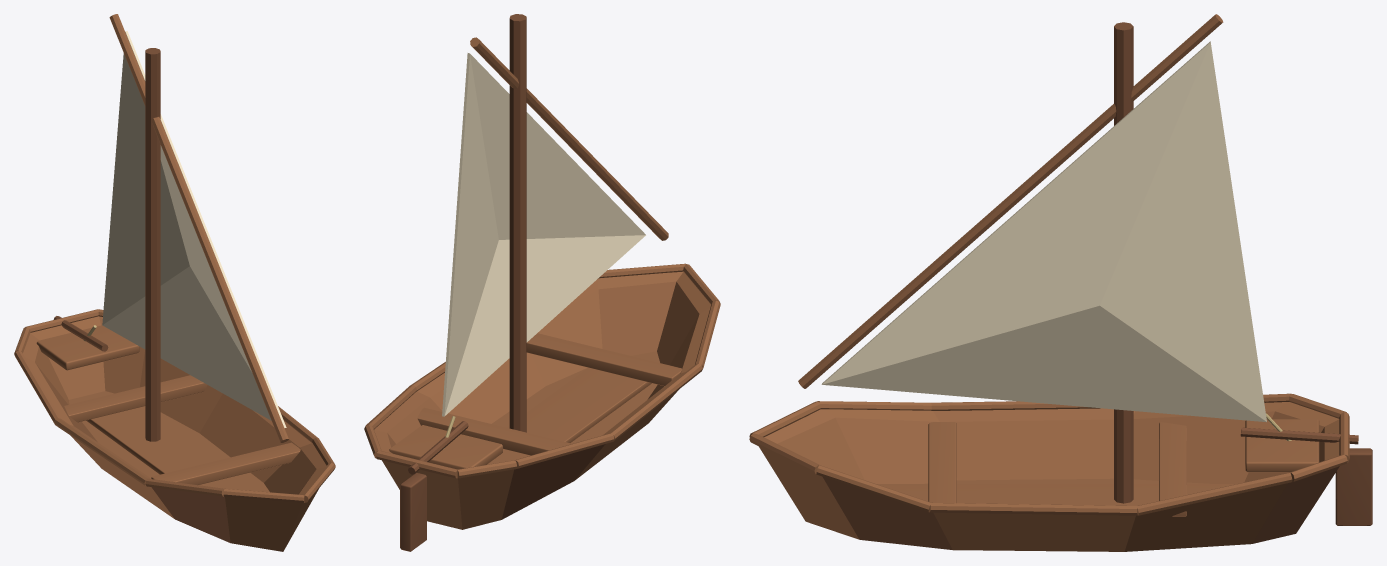
The model's file is sailboat.glb.
3 views of the same model, side by side, from view 1: azimuth 30°, elevation 25°; view 2: azimuth 150°, elevation 25°; view 3: azimuth 270°, elevation 25° (orthographic). The views are drawn at different scales.
Parts seen in each view (by area): view 1: sailboat; view 2: sailboat; view 3: sailboat.
Part boxes in pixels (x1,y1,x2,y2): sailboat: (14,14,335,551); sailboat: (364,14,720,551); sailboat: (749,14,1372,551).
Bounding box in the file's own units: 1.21 × 2.58 × 2.87.
